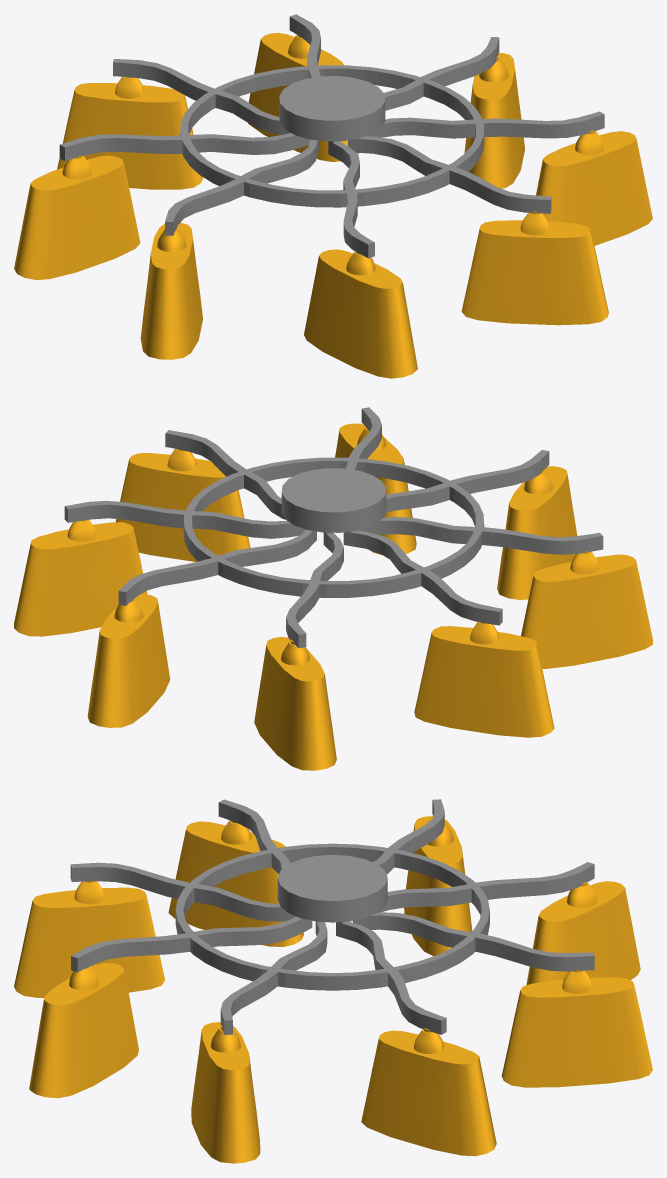
Rendered from lustre.FBX.
The picture shows the model from 3 angles, top to bottom: view 1: azimuth 30°, elevation 25°; view 2: azimuth 150°, elevation 25°; view 3: azimuth 270°, elevation 25°; orthographic projection. The views are drawn at different scales.
Parts seen in each view (by area): view 1: lustre_base, plafond1, plafond4, plafond2, plafond8, plafond5, plafond3, plafond7, plafond6; view 2: lustre_base, plafond4, plafond3, plafond7, plafond5, plafond6, plafond8, plafond2, plafond1; view 3: lustre_base, plafond6, plafond7, plafond1, plafond2, plafond5, plafond8, plafond3, plafond4.
Boxes of the visible parts, x1,y1,x2,y2 form: lustre_base: [59, 14, 604, 258]; plafond1: [461, 211, 608, 325]; plafond4: [14, 155, 140, 279]; plafond2: [304, 249, 417, 378]; plafond8: [536, 130, 652, 245]; plafond5: [57, 76, 202, 189]; plafond3: [140, 222, 202, 359]; plafond7: [464, 52, 524, 188]; plafond6: [248, 32, 358, 161]; lustre_base: [64, 407, 603, 648]; plafond4: [414, 622, 554, 737]; plafond3: [521, 551, 652, 668]; plafond7: [14, 520, 147, 636]; plafond5: [254, 637, 336, 770]; plafond6: [87, 594, 170, 727]; plafond8: [115, 448, 250, 561]; plafond2: [497, 466, 577, 599]; plafond1: [335, 423, 416, 554]; lustre_base: [70, 799, 594, 1034]; plafond6: [501, 969, 652, 1087]; plafond7: [361, 1028, 496, 1156]; plafond1: [29, 963, 138, 1098]; plafond2: [14, 880, 164, 997]; plafond5: [526, 881, 640, 985]; plafond8: [191, 1022, 260, 1163]; plafond3: [168, 820, 303, 946]; plafond4: [404, 816, 472, 955].
Size of the model in its own units: 81.3 by 21.08 by 81.32.
